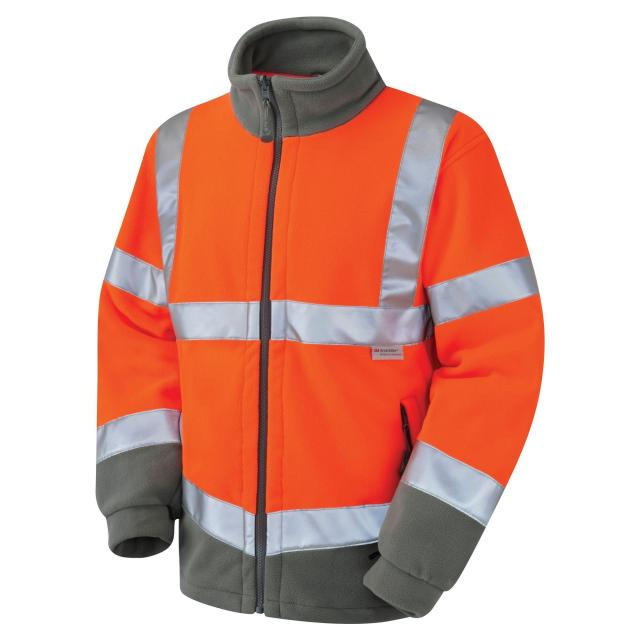safety_jacket: (89, 18, 541, 640)
